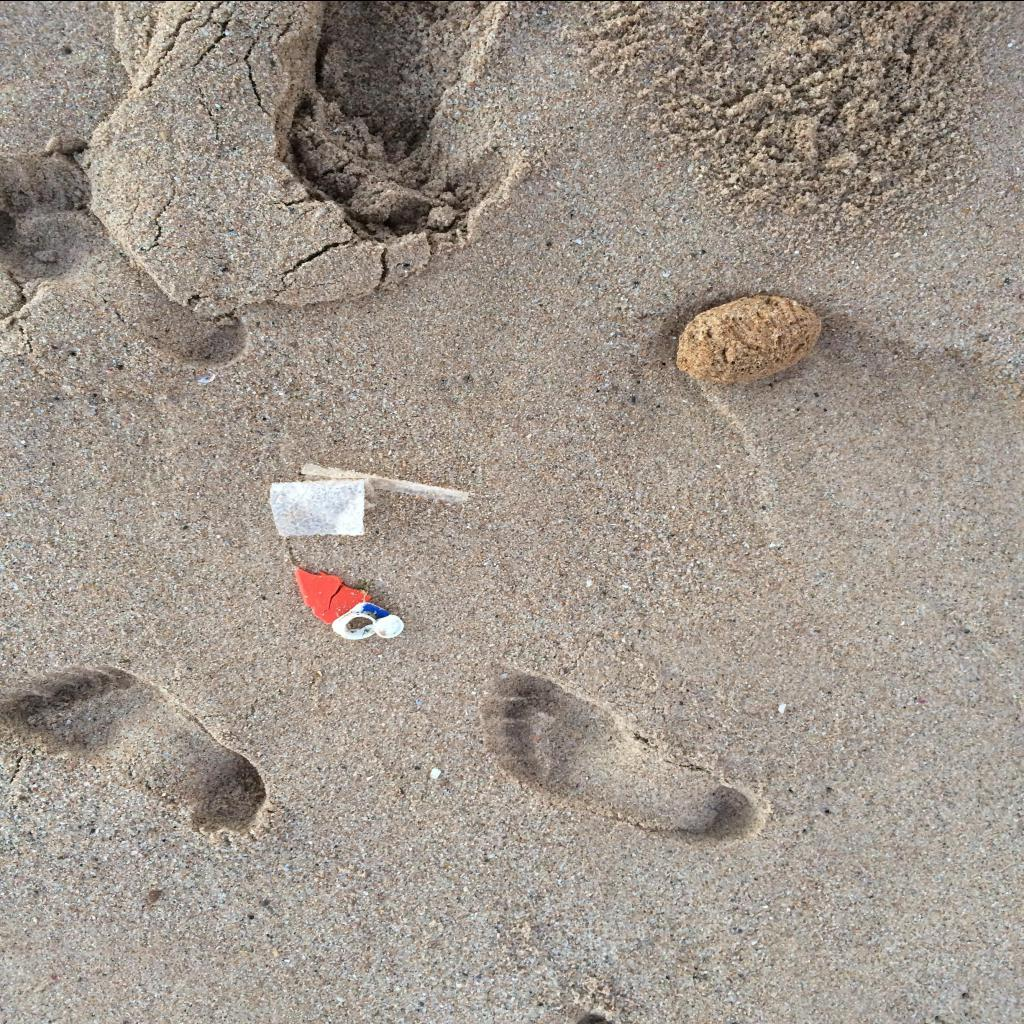Other plastic wrapper: (295, 566, 371, 622), (332, 601, 404, 639)
Plastic film: (300, 462, 469, 500), (270, 478, 366, 536)
